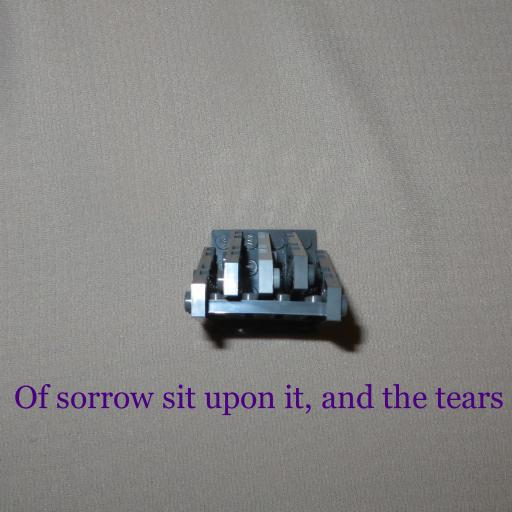Georgia: (14, 383, 504, 416)
